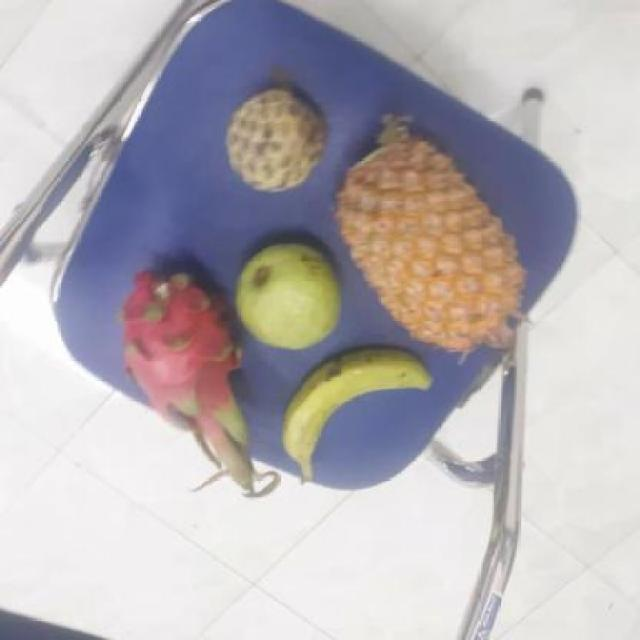banana: (288, 350, 435, 478)
dragon fruit: (124, 264, 262, 454)
guava: (233, 242, 349, 349)
pineapple: (343, 126, 539, 346)
sugar apple: (230, 85, 336, 188)
